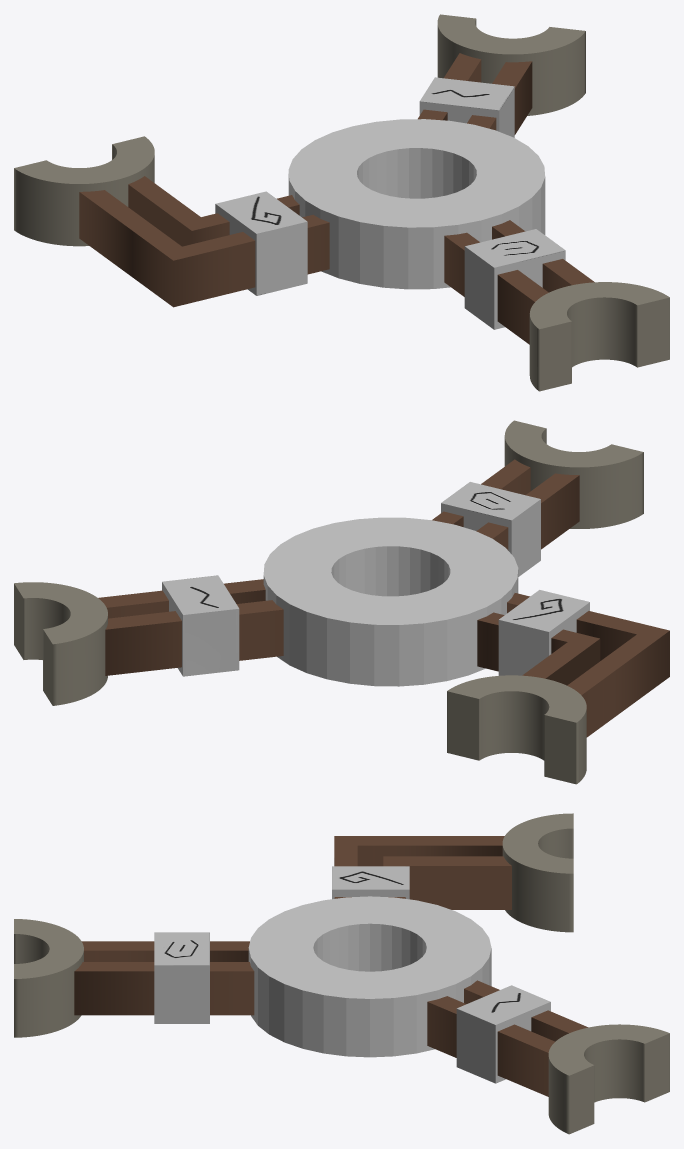
File: Island1Object0.fbx
3 views of the same model, one above another, from view 1: azimuth 30°, elevation 25°; view 2: azimuth 150°, elevation 25°; view 3: azimuth 270°, elevation 25° (orthographic). The views are drawn at different scales.
Visible parts, largest first — view 1: CenterRing, EndPoints, Wood, Symbols; view 2: CenterRing, EndPoints, Wood, Symbols; view 3: CenterRing, Wood, EndPoints, Symbols.
Boxes of the visible parts, <box> form: CenterRing: <box>288,119,545,289</box>; EndPoints: <box>14,14,669,391</box>; Wood: <box>79,53,594,344</box>; Symbols: <box>215,77,565,329</box>; CenterRing: <box>263,517,518,686</box>; EndPoints: <box>14,420,643,784</box>; Wood: <box>98,459,669,737</box>; Symbols: <box>162,482,589,676</box>; CenterRing: <box>248,896,491,1057</box>; Wood: <box>74,836,588,1096</box>; EndPoints: <box>14,813,669,1134</box>; Symbols: <box>154,866,550,1083</box>.
Bounding box in the file's own units: 220 × 23.64 × 233.
